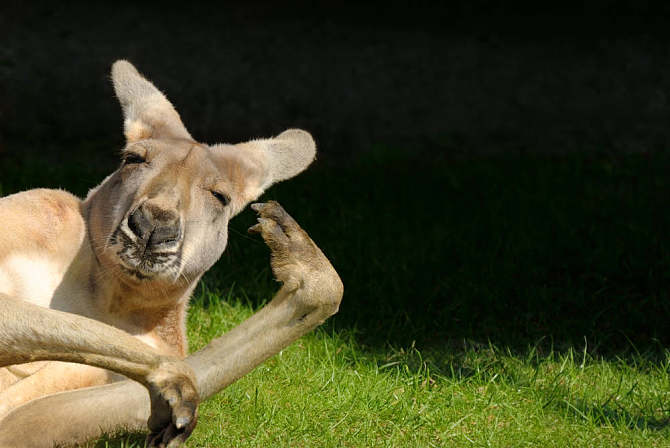kangaroo: (3, 50, 345, 442)
